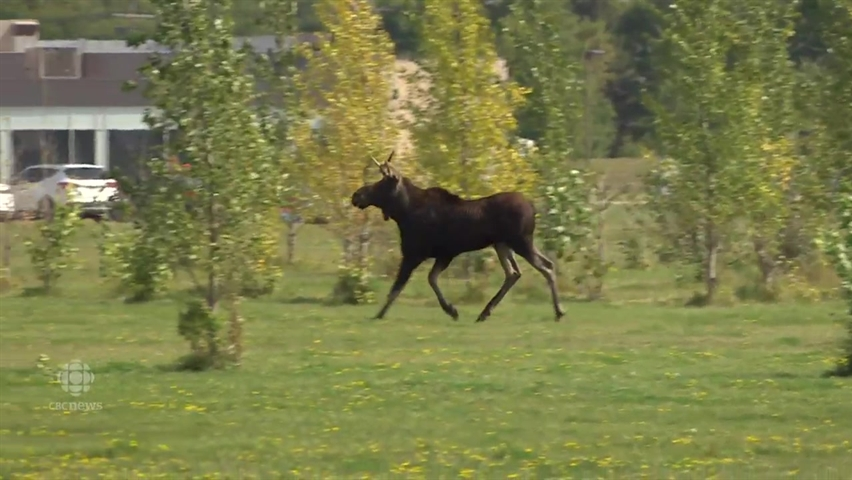moose: (348, 150, 567, 321)
